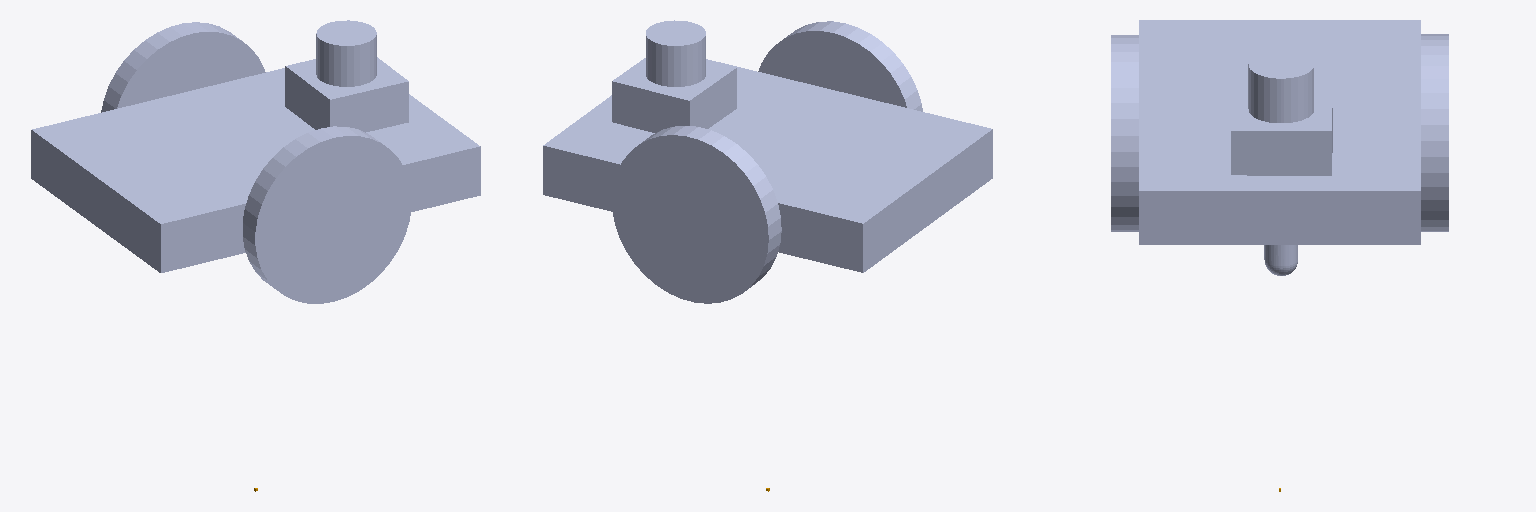
robot.urdf — n:
<?xml version="1.0" encoding="utf-8"?>
<!-- This URDF was automatically created by SolidWorks to URDF Exporter! Originally created by [author] ([email redacted]) 
     Commit Version: 1.6.0-1-g15f4949  Build Version: 1.6.7594.29634
     For more information, please see http://wiki.ros.org/sw_urdf_exporter -->
<robot
  name="n">

<link name="base_footprint">
    
    <visual>
        <origin xyz="0 0 0" rpy="0 0 0" />
        <geometry>
            <box size="0.001 0.001 0.001" />
        </geometry>
    </visual>
  </link>

  <gazebo reference="base_footprint">
    <turnGravityOff>false</turnGravityOff>
  </gazebo>


<joint name="base_footprint_joint" type="fixed">
    <parent link="base_footprint" />
    <child link="base_link" />
    <origin xyz="0 0 0.15" rpy="0 0 0"/>
</joint> 


  <link
    name="base_link">
    <inertial>
      <origin
        xyz="-5.70335553229384E-08 0 -0.0104935829042825"
        rpy="0 0 0" />
      <mass
        value="0.291996112689346" />
      <inertia
        ixx="0.000254300038430057"
        ixy="-6.26804380968182E-20"
        ixz="-4.08000165940976E-12"
        iyy="0.000520360495960744"
        iyz="-1.25789625466017E-20"
        izz="0.000752720645346264" />
    </inertial>
    <visual>
      <origin
        xyz="0 0 0"
        rpy="0 0 0" />
      <geometry>
        <mesh
          filename="package://iiplab/meshes/base_link.STL" />
      </geometry>
      <material
        name="">
        <color
          rgba="0.792156862745098 0.819607843137255 0.933333333333333 1" />
      </material>
    </visual>
    <collision>
      <origin
        xyz="0 0 0"
        rpy="0 0 0" />
      <geometry>
        <mesh
          filename="package://iiplab/meshes/base_link.STL" />
      </geometry>
    </collision>
  </link>
  <link
    name="l_Link">
    <inertial>
      <origin
        xyz="0 -0.0052 1.38777878078145E-17"
        rpy="0 0 0" />
      <mass
        value="0.0392699081698724" />
      <inertia
        ixx="1.21950081827661E-05"
        ixy="1.62789144550436E-21"
        ixz="2.94395590749513E-22"
        iyy="2.35815798560084E-05"
        iyz="1.51222718675841E-22"
        izz="1.21950081827661E-05" />
    </inertial>
    <visual>
      <origin
        xyz="0 0 0"
        rpy="0 0 0" />
      <geometry>
        <mesh
          filename="package://iiplab/meshes/l_Link.STL" />
      </geometry>
      <material
        name="">
        <color
          rgba="0.792156862745098 0.819607843137255 0.933333333333333 1" />
      </material>
    </visual>
    <collision>
      <origin
        xyz="0 0 0"
        rpy="0 0 0" />
      <geometry>
        <mesh
          filename="package://iiplab/meshes/l_Link.STL" />
      </geometry>
    </collision>
  </link>
  <joint
    name="ljoint"
    type="continuous">
    <origin
      xyz="0 0.06 -0.0107385754247457"
      rpy="0 0 0" />
    <parent
      link="base_link" />
    <child
      link="l_Link" />
    <axis
      xyz="0 1 0" />
    <limit
      effort="2"
      velocity="2" />
  </joint>
  <link
    name="r_Link">
    <inertial>
      <origin
        xyz="0.0051993019972844 8.51982454894151E-05 0"
        rpy="0 0 0" />
      <mass
        value="0.0392699081698724" />
      <inertia
        ixx="2.35785231927301E-05"
        ixy="1.86535713227954E-07"
        ixz="-8.02207821206689E-24"
        iyy="1.21980648460444E-05"
        iyz="8.03010482811756E-22"
        izz="1.21950081827661E-05" />
    </inertial>
    <visual>
      <origin
        xyz="0 0 0"
        rpy="0 0 0" />
      <geometry>
        <mesh
          filename="package://iiplab/meshes/r_Link.STL" />
      </geometry>
      <material
        name="">
        <color
          rgba="0.792156862745098 0.819607843137255 0.933333333333333 1" />
      </material>
    </visual>
    <collision>
      <origin
        xyz="0 0 0"
        rpy="0 0 0" />
      <geometry>
        <mesh
          filename="package://iiplab/meshes/r_Link.STL" />
      </geometry>
    </collision>
  </link>
  <joint
    name="rjoint"
    type="continuous">
    <origin
      xyz="0 -0.06 -0.0107385754247457"
      rpy="0 0 1.55441131568254" />
    <parent
      link="base_link" />
    <child
      link="r_Link" />
    <axis
      xyz="0.999865768708538 0.0163842779787276 0" />
    <limit
      effort="2"
      velocity="2" />
  </joint>
  <link
    name="sense">
    <inertial>
      <origin
        xyz="0.000345412463142514 0.00023279027761031 -0.0217463220907179"
        rpy="0 0 0" />
      <mass
        value="0.029229722273242" />
      <inertia
        ixx="4.99374006642867E-06"
        ixy="-8.14468679690465E-10"
        ixz="4.5470529966785E-08"
        iyy="4.92453447666973E-06"
        iyz="3.0644804179198E-08"
        izz="5.00463651434428E-06" />
    </inertial>
    <visual>
      <origin
        xyz="0 0 0"
        rpy="0 0 0" />
      <geometry>
        <mesh
          filename="package://iiplab/meshes/sense.STL" />
      </geometry>
      <material
        name="">
        <color
          rgba="0.792156862745098 0.819607843137255 0.933333333333333 1" />
      </material>
    </visual>
    <collision>
      <origin
        xyz="0 0 0"
        rpy="0 0 0" />
      <geometry>
        <mesh
          filename="package://iiplab/meshes/sense.STL" />
      </geometry>
    </collision>
  </link>
  <joint
    name="sj"
    type="fixed">
    <origin
      xyz="0.040742 0.00050226 0.035"
      rpy="0 0 -0.016385" />
    <parent
      link="base_link" />
    <child
      link="sense" />
    <axis
      xyz="0 0 0" />
  </joint>
  <link
    name="castor_Link">
    <inertial>
      <origin
        xyz="0 0 0.0109583333333333"
        rpy="0 0 0" />
      <mass
        value="0.00271433605270158" />
      <inertia
        ixx="1.56552159272952E-07"
        ixy="2.06795153138257E-24"
        ixz="3.60236627318405E-23"
        iyy="1.56552159272952E-07"
        iyz="-1.35750140169932E-23"
        izz="4.72294473170075E-08" />
    </inertial>
    <visual>
      <origin
        xyz="0 0 0"
        rpy="0 0 0" />
      <geometry>
        <mesh
          filename="package://iiplab/meshes/castor_Link.STL" />
      </geometry>
      <material
        name="">
        <color
          rgba="0.792156862745098 0.819607843137255 0.933333333333333 1" />
      </material>
    </visual>
    <collision>
      <origin
        xyz="0 0 0"
        rpy="0 0 0" />
      <geometry>
        <mesh
          filename="package://iiplab/meshes/castor_Link.STL" />
      </geometry>
    </collision>
  </link>
  <joint
    name="castor_joint"
    type="fixed">
    <origin
      xyz="0.040742 0.00050226 -0.044"
      rpy="0 0 0" />
    <parent
      link="base_link" />
    <child
      link="castor_Link" />
    <axis
      xyz="0 0 1" />
    <limit
      effort="2"
      velocity="2" />
  </joint>

<!--wheel plugins and sensor plugins-->

<gazebo reference="sense">
    <material>Gazebo/Blue</material>
    <turnGravityOff>false</turnGravityOff>
    <sensor type="ray" name="head_hokuyo_sensor">
      <pose>4 0 0 0 0 0</pose>
      <visualize>true</visualize>
      <update_rate>40</update_rate>
      <ray>
        <scan>
          <horizontal>
            <samples>720</samples>
            <resolution>1</resolution>
            <min_angle>-1.570796</min_angle>
            <max_angle>1.570796</max_angle>
          </horizontal>
        </scan>
        <range>
          <min>0.10</min>
          <max>10.0</max>
          <resolution>0.001</resolution>
        </range>
      </ray>
      <plugin name="gazebo_ros_head_hokuyo_controller" filename="libgazebo_ros_laser.so">
        <topicName>/scan</topicName>
        <frameName>sense</frameName>
      </plugin>
    </sensor>
</gazebo>


<!-- Differential drive controller  -->
<gazebo>
    <plugin name="differential_drive_controller" filename="libgazebo_ros_diff_drive.so">

       <rosDebugLevel>Debug</rosDebugLevel>
      <publishWheelTF>false</publishWheelTF>
      <robotNamespace>/</robotNamespace>
      <publishTf>1</publishTf>
      <publishWheelJointState>false</publishWheelJointState>
      <alwaysOn>true</alwaysOn>
      <updateRate>30</updateRate>
      <leftJoint>ljoint</leftJoint>
      <rightJoint>rjoint</rightJoint>
      <wheelSeparation>0.35</wheelSeparation>
      <wheelDiameter>0.15</wheelDiameter>
      <broadcastTF>1</broadcastTF>
      <wheelTorque>10</wheelTorque>
      <wheelAcceleration>10</wheelAcceleration>
      <commandTopic>cmd_vel</commandTopic>
      <odometryFrame>odom</odometryFrame> 
      <odometryTopic>odom</odometryTopic> 
      <odometrySource>1</odometrySource>
      <publishOdomTF>true</publishOdomTF>
      <robotBaseFrame>base_footprint</robotBaseFrame>
      
    </plugin>
</gazebo> 


</robot>

--- Facts derived from the render (not from the file) ---
3 views of the same robot in one strip: view 1: azimuth 30°, elevation 25°; view 2: azimuth 150°, elevation 25°; view 3: azimuth 270°, elevation 25° (orthographic).
Robot: n — 6 links, 5 joints (2 continuous, 3 fixed); root link base_footprint; default pose: every joint at zero.
Visible links, largest first — view 1: base_link, r_Link, sense, l_Link; view 2: base_link, l_Link, sense, r_Link; view 3: base_link, sense, l_Link, r_Link, castor_Link.
Boxes of the visible links, x1,y1,x2,y2 form: base_link: [31, 68, 480, 272]; r_Link: [243, 126, 411, 303]; sense: [285, 20, 408, 132]; l_Link: [101, 22, 265, 112]; base_link: [543, 59, 992, 272]; l_Link: [612, 126, 781, 303]; sense: [612, 20, 736, 132]; r_Link: [758, 21, 922, 111]; base_link: [1139, 20, 1420, 244]; sense: [1231, 51, 1332, 175]; l_Link: [1421, 34, 1448, 231]; r_Link: [1111, 35, 1138, 231]; castor_Link: [1264, 245, 1297, 275].
Size in the robot's own frame: 0.1428 by 0.12 by 0.1855 metres.
Meshes: 5 distinct files referenced, 5 mesh visuals loaded (5 binary STL).
